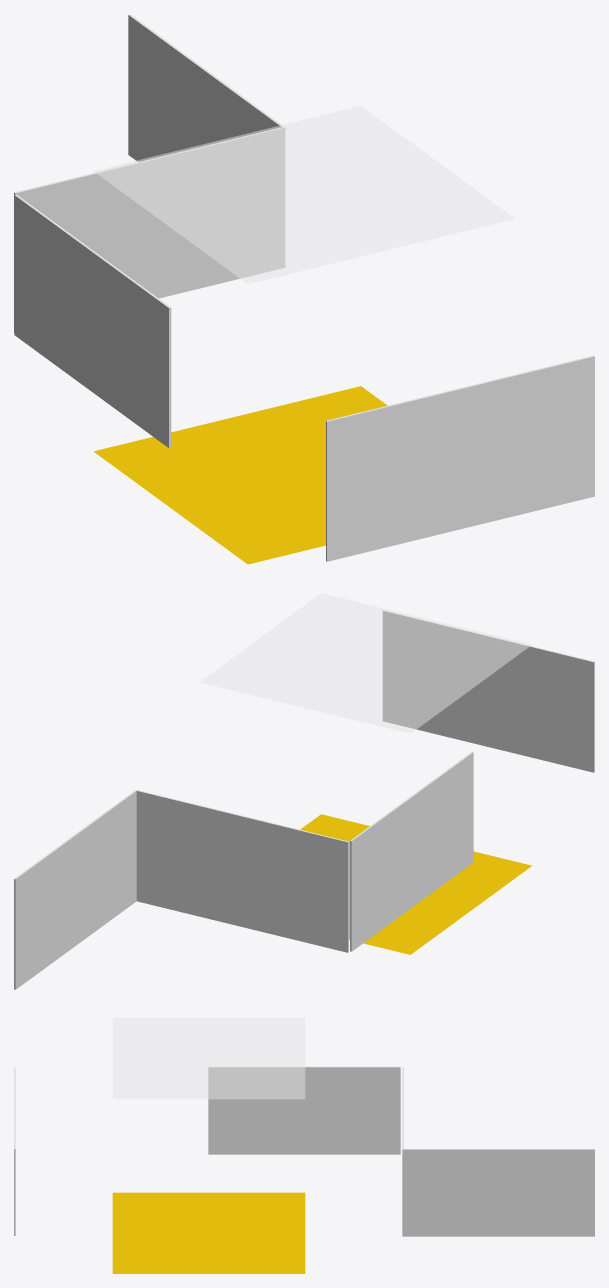
The model's file is apartment.glb.
3 views of the same model, one above another, from view 1: azimuth 30°, elevation 25°; view 2: azimuth 150°, elevation 25°; view 3: azimuth 270°, elevation 25° (orthographic). The views are drawn at different scales.
Bounding box in the file's own units: 6.1 × 6 × 18.1.
